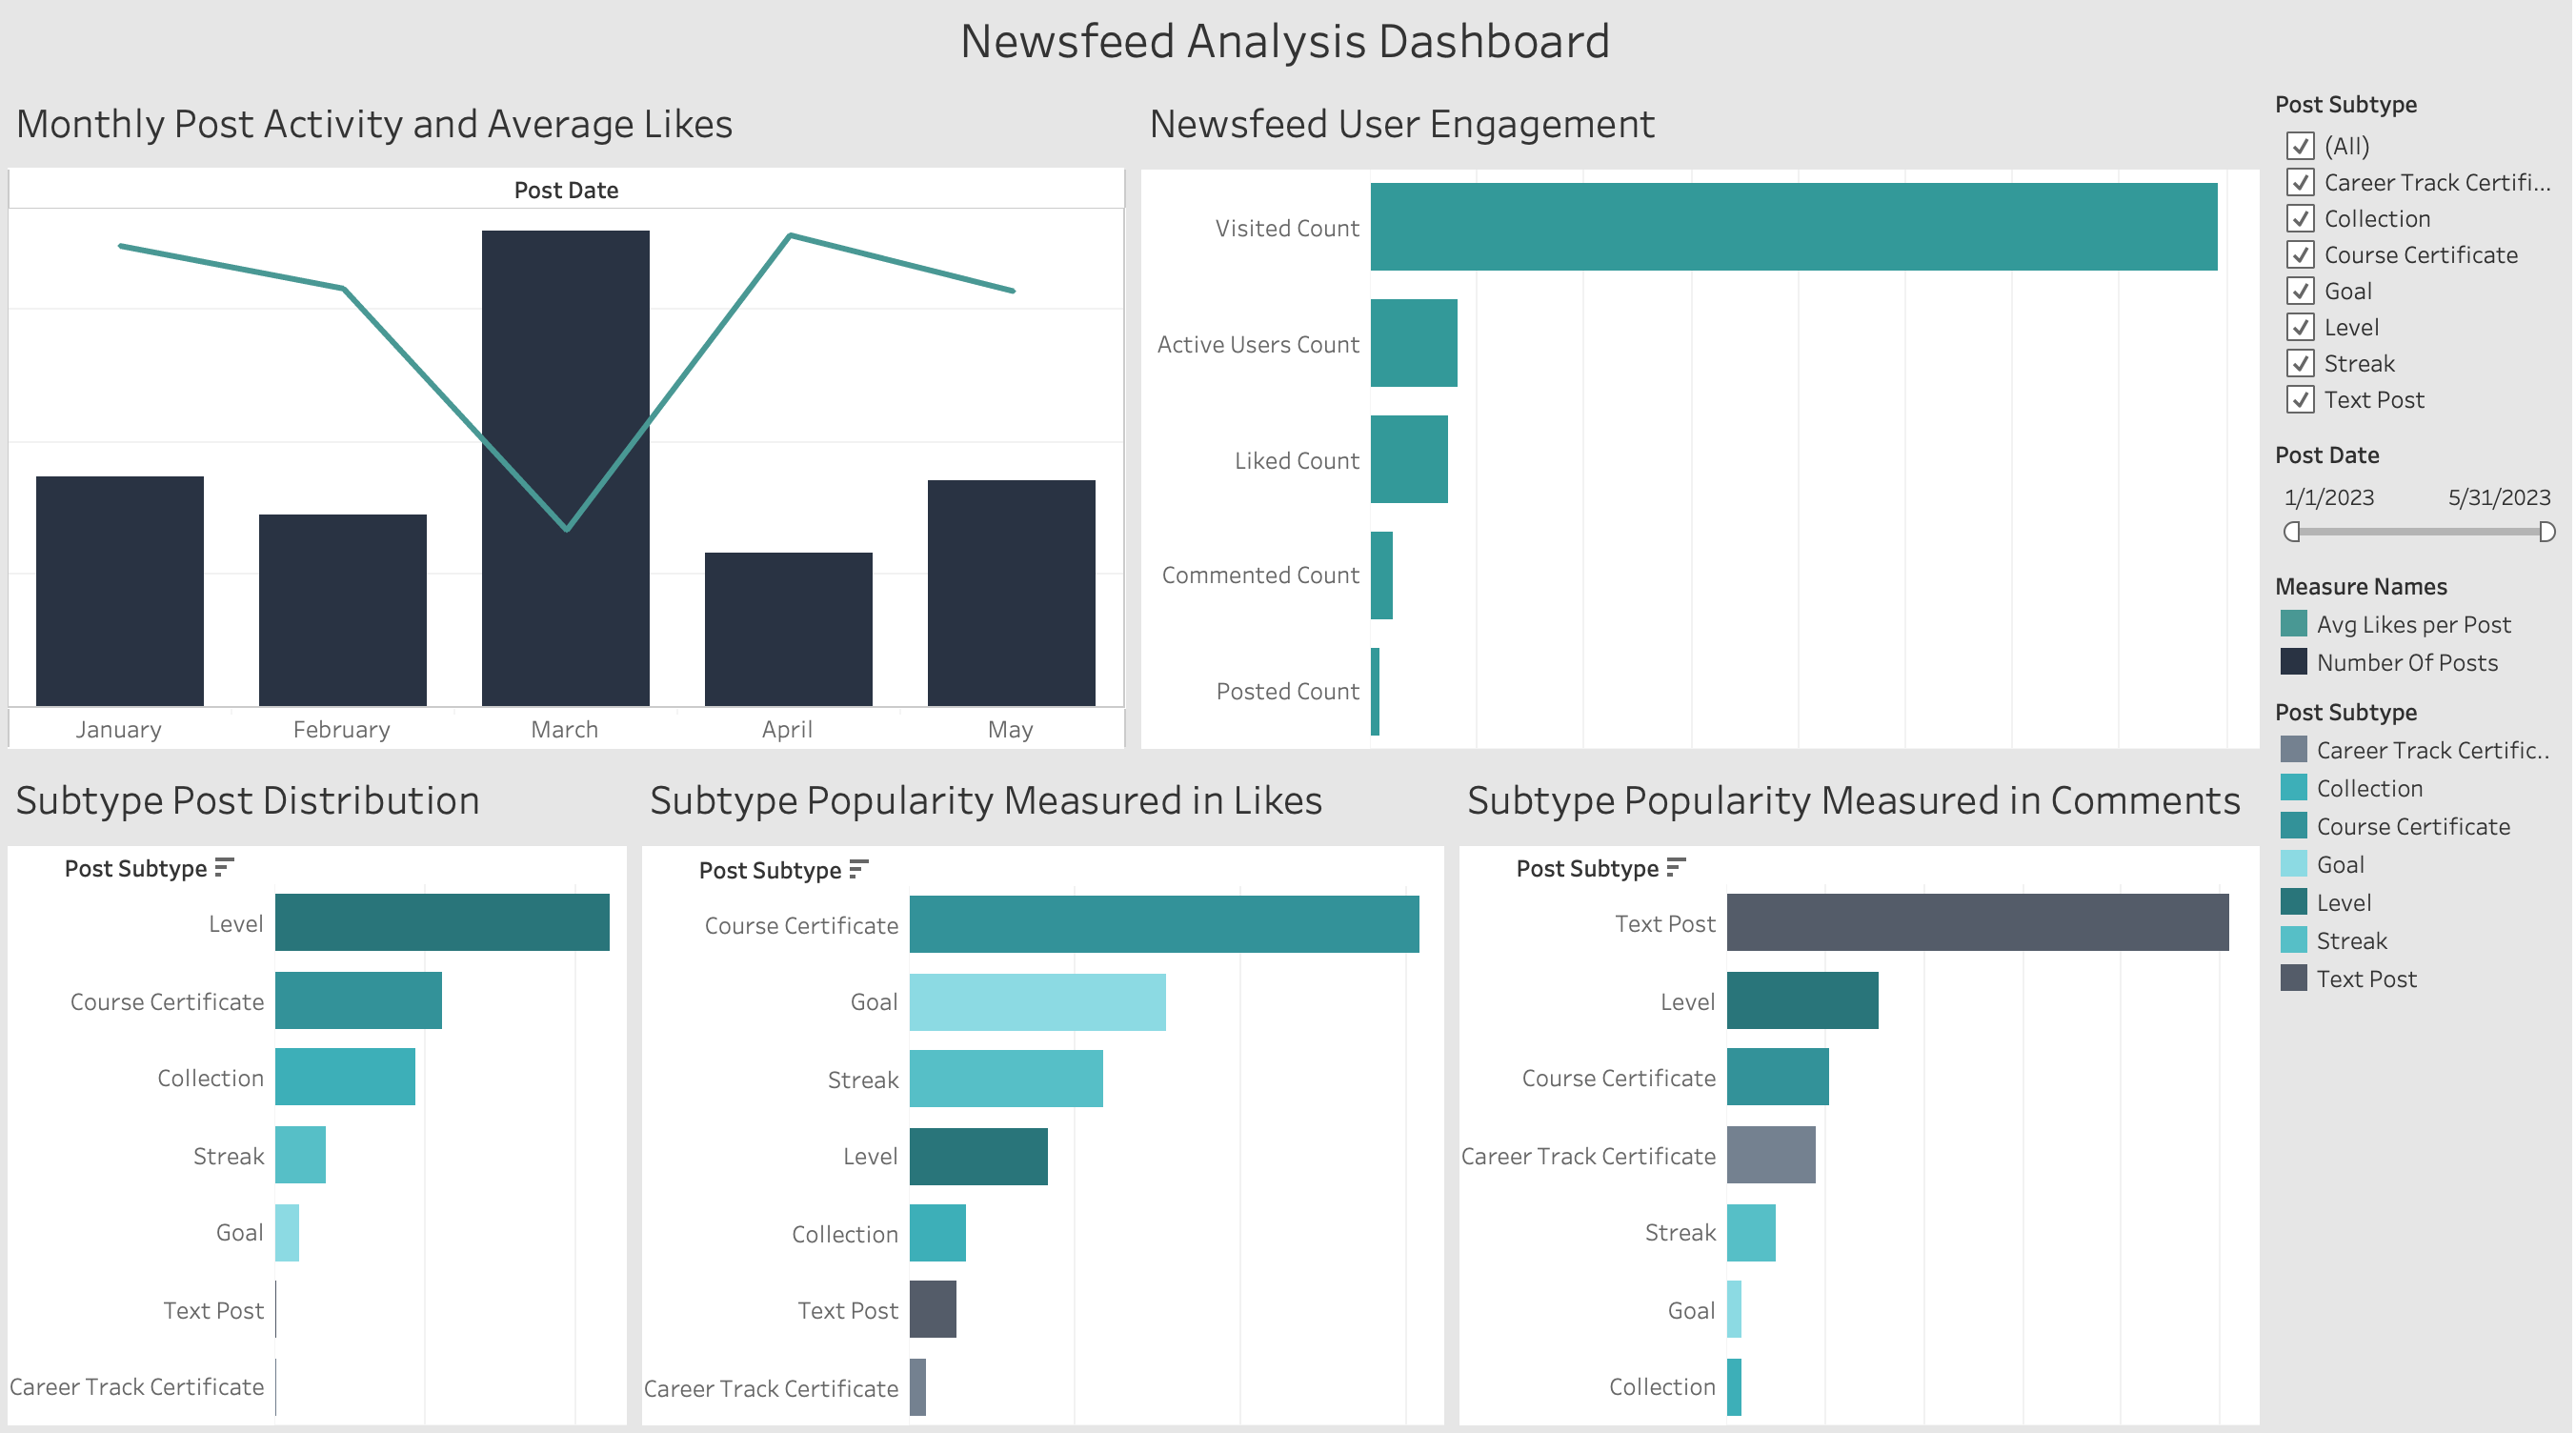

The dashboard page shown, as its layout file describes it:
{"tool":"tableau","page":{"name":"Newsfeed Analysis Dashboard","canvas":[1366,768],"ordinal":0},"visuals":[{"type":"title","box":[8,8,1350,42]},{"type":"worksheet","title":"Monthly Post Activity and Average Likes","mark":"Bar","rows":["number_of_posts","Calculation_962222263629008896"],"cols":["post_date"],"box":[8,50,595,355]},{"type":"worksheet","title":"Newsfeed User Engagement","mark":"Automatic","box":[603,50,595,355]},{"type":"filter","title":"Monthly Post Activity and Average Likes","param":"[federated.1u2n35i1xwz2qw16idjyf1kn14rl].[none:post_subtype:nk]","box":[1198,50,160,184]},{"type":"filter","title":"Monthly Post Activity and Average Likes","param":"[federated.1u2n35i1xwz2qw16idjyf1kn14rl].[none:post_date:qk]","box":[1198,234,160,69]},{"type":"legend","title":"Monthly Post Activity and Average Likes","param":"[federated.1u2n35i1xwz2qw16idjyf1kn14rl].[:Measure Names]","box":[1198,303,160,66]},{"type":"legend","title":"Subtype Post Distribution","param":"[federated.1u2n35i1xwz2qw16idjyf1kn14rl].[none:post_subtype:nk]","box":[1198,369,160,166]},{"type":"worksheet","title":"Subtype Post Distribution","mark":"Automatic","rows":["post_subtype"],"cols":["number_of_posts"],"box":[8,405,333,355]},{"type":"worksheet","title":"Subtype Popularity Measured in Likes","mark":"Automatic","rows":["post_subtype"],"cols":["number_of_likes"],"box":[341,405,429,355]},{"type":"worksheet","title":"Subtype Popularity Measured in Comments","mark":"Automatic","rows":["post_subtype"],"cols":["number_of_comments"],"box":[770,405,428,355]}]}

Visuals, with their boxes in screenshot pixels (x1, y1, x2, y2), scaled from the page's 1366x768 canvas onto the 2576x1433 screenshot:
title: box(15, 15, 2561, 93)
"Monthly Post Activity and Average Likes" worksheet (Bar marks): box(15, 93, 1137, 756)
"Newsfeed User Engagement" worksheet: box(1137, 93, 2259, 756)
"Monthly Post Activity and Average Likes" filter: box(2259, 93, 2561, 436)
"Monthly Post Activity and Average Likes" filter: box(2259, 436, 2561, 565)
"Monthly Post Activity and Average Likes" legend: box(2259, 565, 2561, 689)
"Subtype Post Distribution" legend: box(2259, 689, 2561, 999)
"Subtype Post Distribution" worksheet: box(15, 756, 643, 1418)
"Subtype Popularity Measured in Likes" worksheet: box(643, 756, 1452, 1418)
"Subtype Popularity Measured in Comments" worksheet: box(1452, 756, 2259, 1418)
